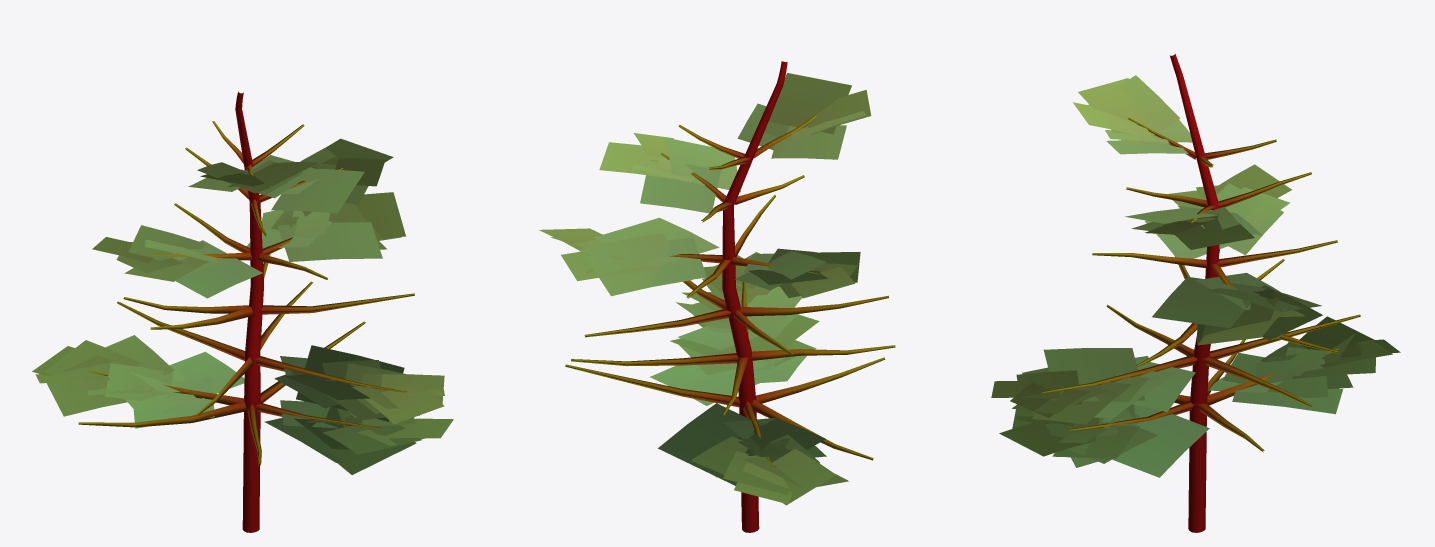
File: sapling_fir.glb
The picture shows the model from 3 angles, left to right: view 1: azimuth 30°, elevation 25°; view 2: azimuth 150°, elevation 25°; view 3: azimuth 270°, elevation 25°; orthographic projection. The views are drawn at different scales.
Parts seen in each view (by area): view 1: LOD0; view 2: LOD0; view 3: LOD0.
Part boxes in pixels (<box>): LOD0: <box>32,91,453,532</box>; LOD0: <box>539,61,895,532</box>; LOD0: <box>991,54,1400,532</box>.
Size of what is drawn, in the model's own units: 1.98 by 2.34 by 1.85.
